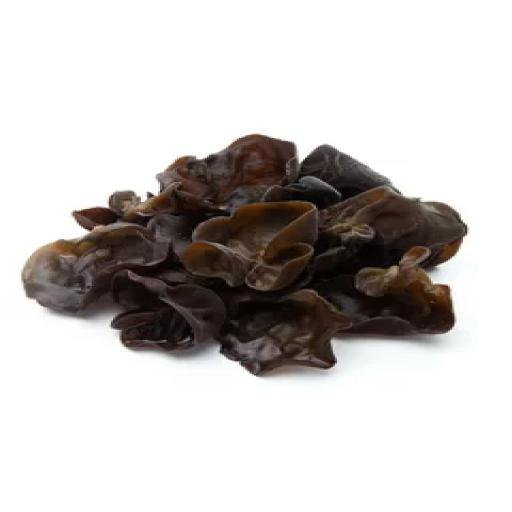mushroom: (10, 108, 484, 396)
